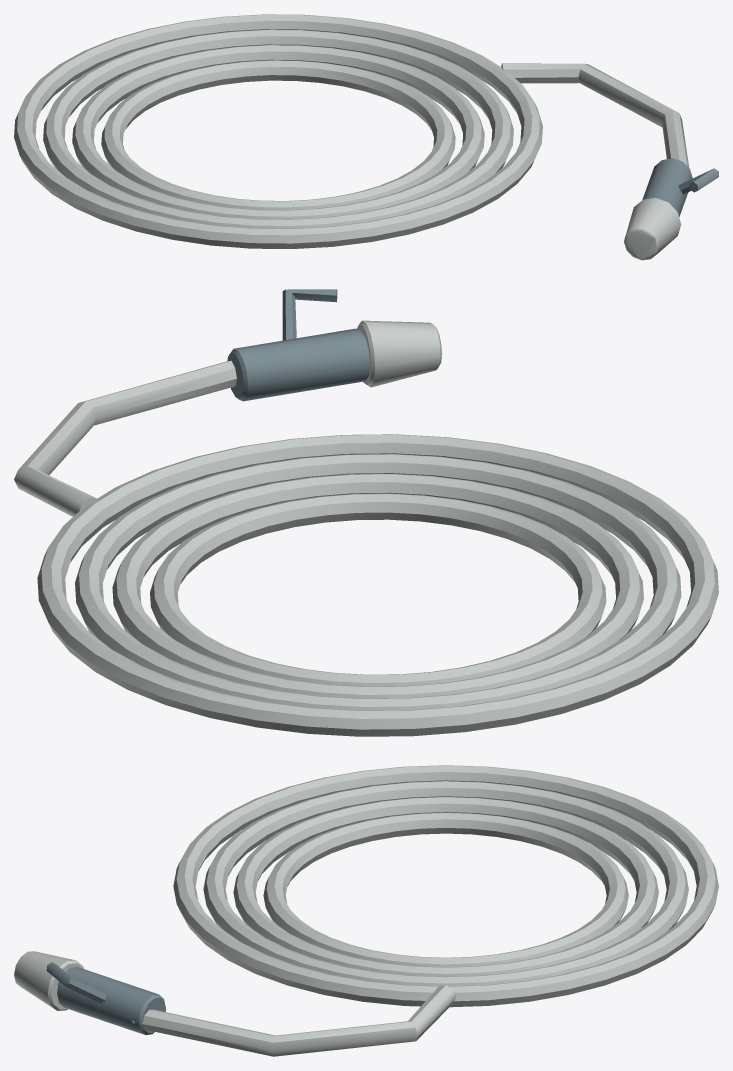
The model's file is garden-hose.glb.
The picture shows the model from 3 angles, top to bottom: view 1: azimuth 30°, elevation 25°; view 2: azimuth 150°, elevation 25°; view 3: azimuth 270°, elevation 25°; orthographic projection. The views are drawn at different scales.
Visible parts, largest first — view 1: hose_coil.003, hose_coil.002, hose_coil.001, hose_coil, loose_hose, sprayer_nozzle, sprayer_body, trigger; view 2: hose_coil.003, hose_coil.002, hose_coil.001, hose_coil, loose_hose, sprayer_body, sprayer_nozzle, trigger; view 3: hose_coil.003, hose_coil.002, hose_coil.001, hose_coil, loose_hose, sprayer_body, sprayer_nozzle, trigger.
Boxes of the visible parts, x1,y1,x2,y2 form: hose_coil.003: (14, 14, 542, 248); hose_coil.002: (43, 29, 513, 228); hose_coil.001: (72, 45, 484, 219); hose_coil: (101, 60, 455, 210); loose_hose: (501, 63, 689, 167); sprayer_nozzle: (624, 198, 681, 260); sprayer_body: (642, 158, 692, 216); trigger: (678, 168, 718, 194); hose_coil.003: (37, 434, 718, 736); hose_coil.002: (75, 454, 681, 710); hose_coil.001: (112, 474, 643, 698); hose_coil: (150, 493, 606, 686); loose_hose: (14, 360, 236, 516); sprayer_body: (227, 328, 370, 401); sprayer_nozzle: (357, 320, 441, 387); trigger: (282, 289, 337, 340); hose_coil.003: (173, 765, 718, 1007); hose_coil.002: (203, 781, 688, 986); hose_coil.001: (233, 797, 658, 976); hose_coil: (263, 812, 628, 967); loose_hose: (132, 985, 456, 1056); sprayer_body: (57, 967, 166, 1034); sprayer_nozzle: (14, 951, 83, 1010); trigger: (46, 962, 106, 1003).
Bounding box in the file's own units: 0.7608 × 0.0816 × 0.8218.
